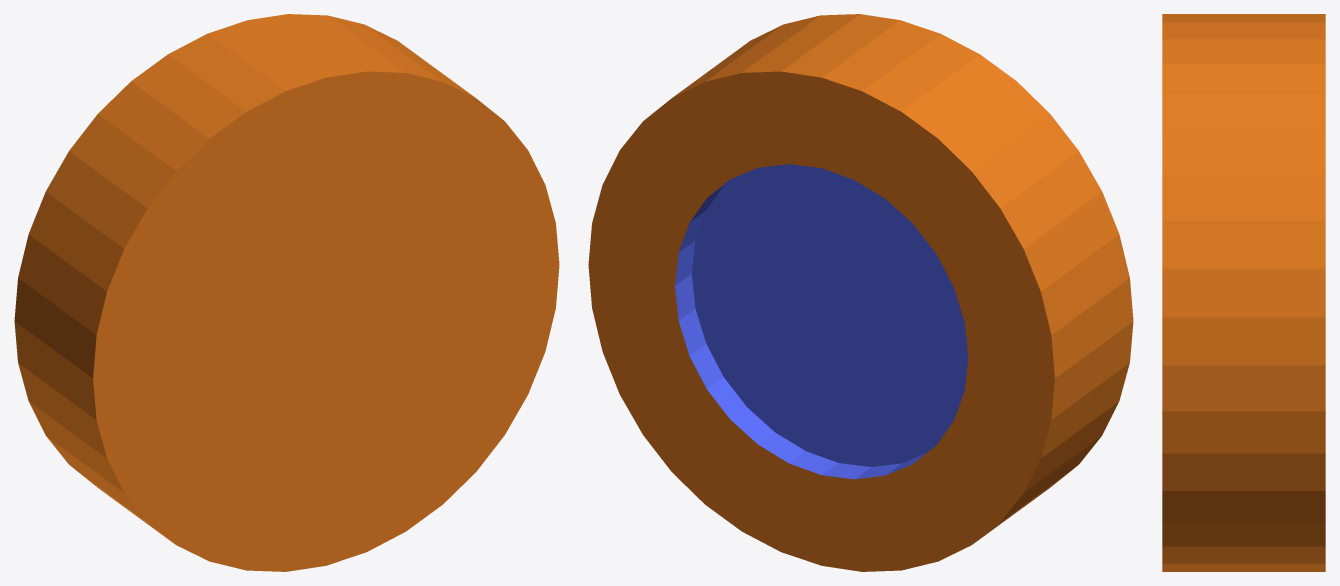
File: wheel.dae
The picture shows the model from 3 angles, left to right: view 1: azimuth 30°, elevation 25°; view 2: azimuth 150°, elevation 25°; view 3: azimuth 270°, elevation 25°; orthographic projection. The views are drawn at different scales.
Parts seen in each view (by area): view 1: node0; view 2: node0; view 3: node0.
Part boxes in pixels (x1,y1,x2,y2): node0: (14,14,559,571); node0: (588,14,1133,571); node0: (1162,14,1325,571).
Bounding box in the file's own units: 0.24 × 0.07 × 0.24.
